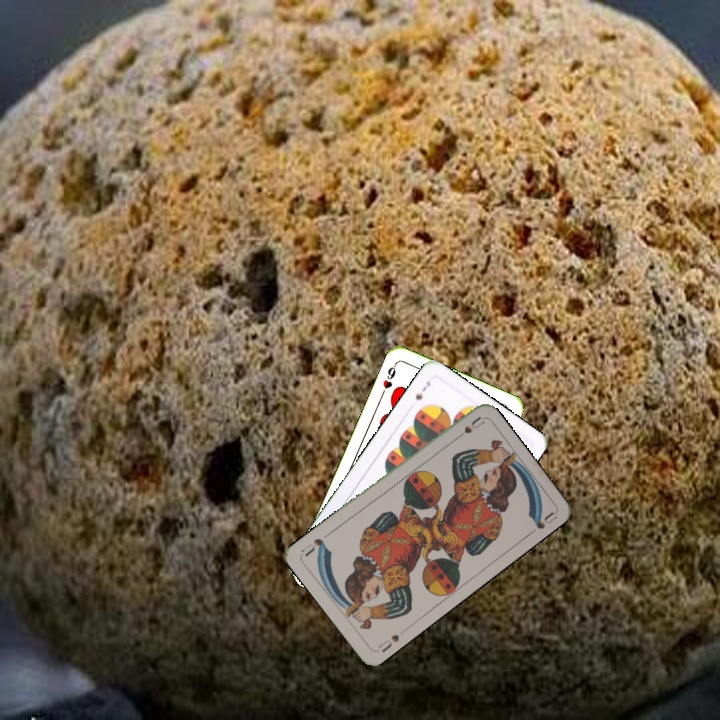H9: (377, 359, 399, 398)
S7: (411, 377, 433, 403)
SU: (449, 413, 486, 444), (375, 630, 402, 655)
